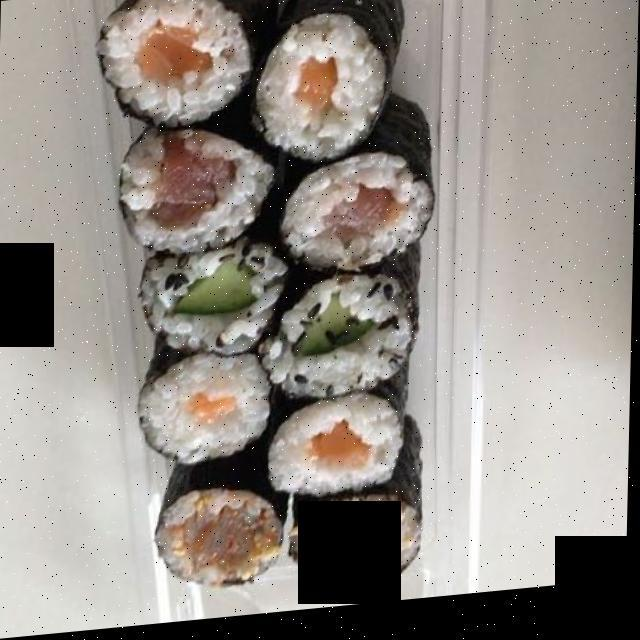sushi: (111, 0, 460, 593)
